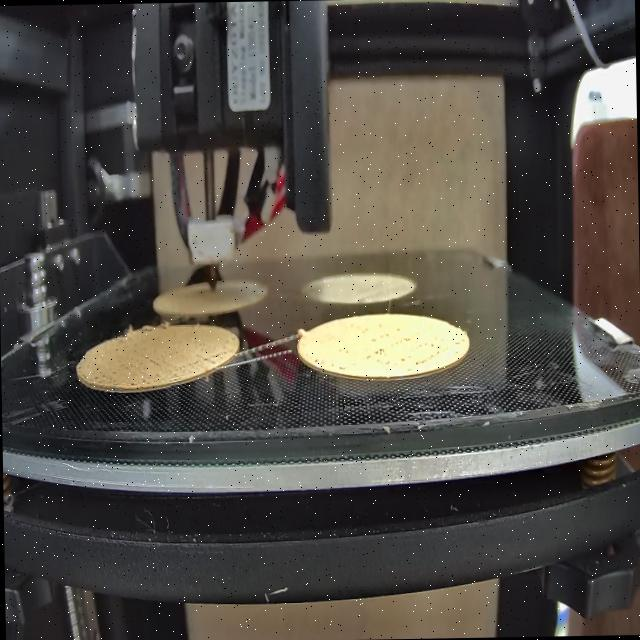under_extrusion: (360, 319, 446, 369), (94, 342, 167, 388), (181, 346, 230, 375), (312, 355, 346, 375)
